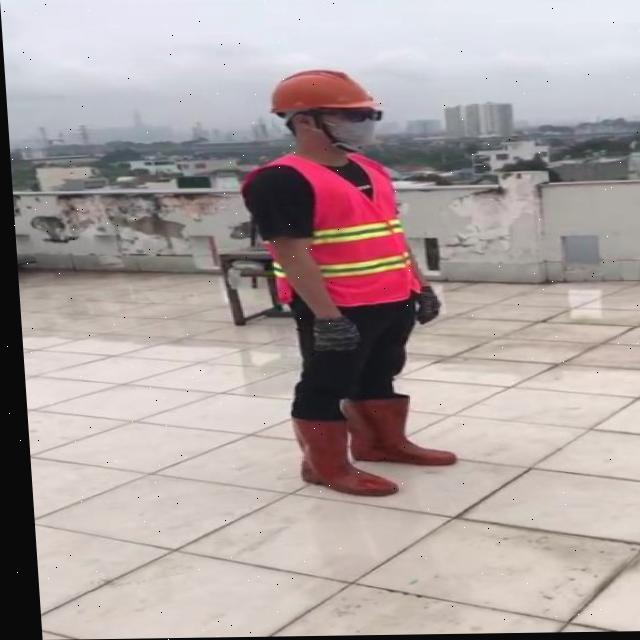Gloves: (305, 315, 358, 354), (409, 286, 437, 325)
Safety-Boot: (284, 414, 391, 498), (332, 393, 450, 468)
Safety-Vest: (241, 150, 418, 310)
